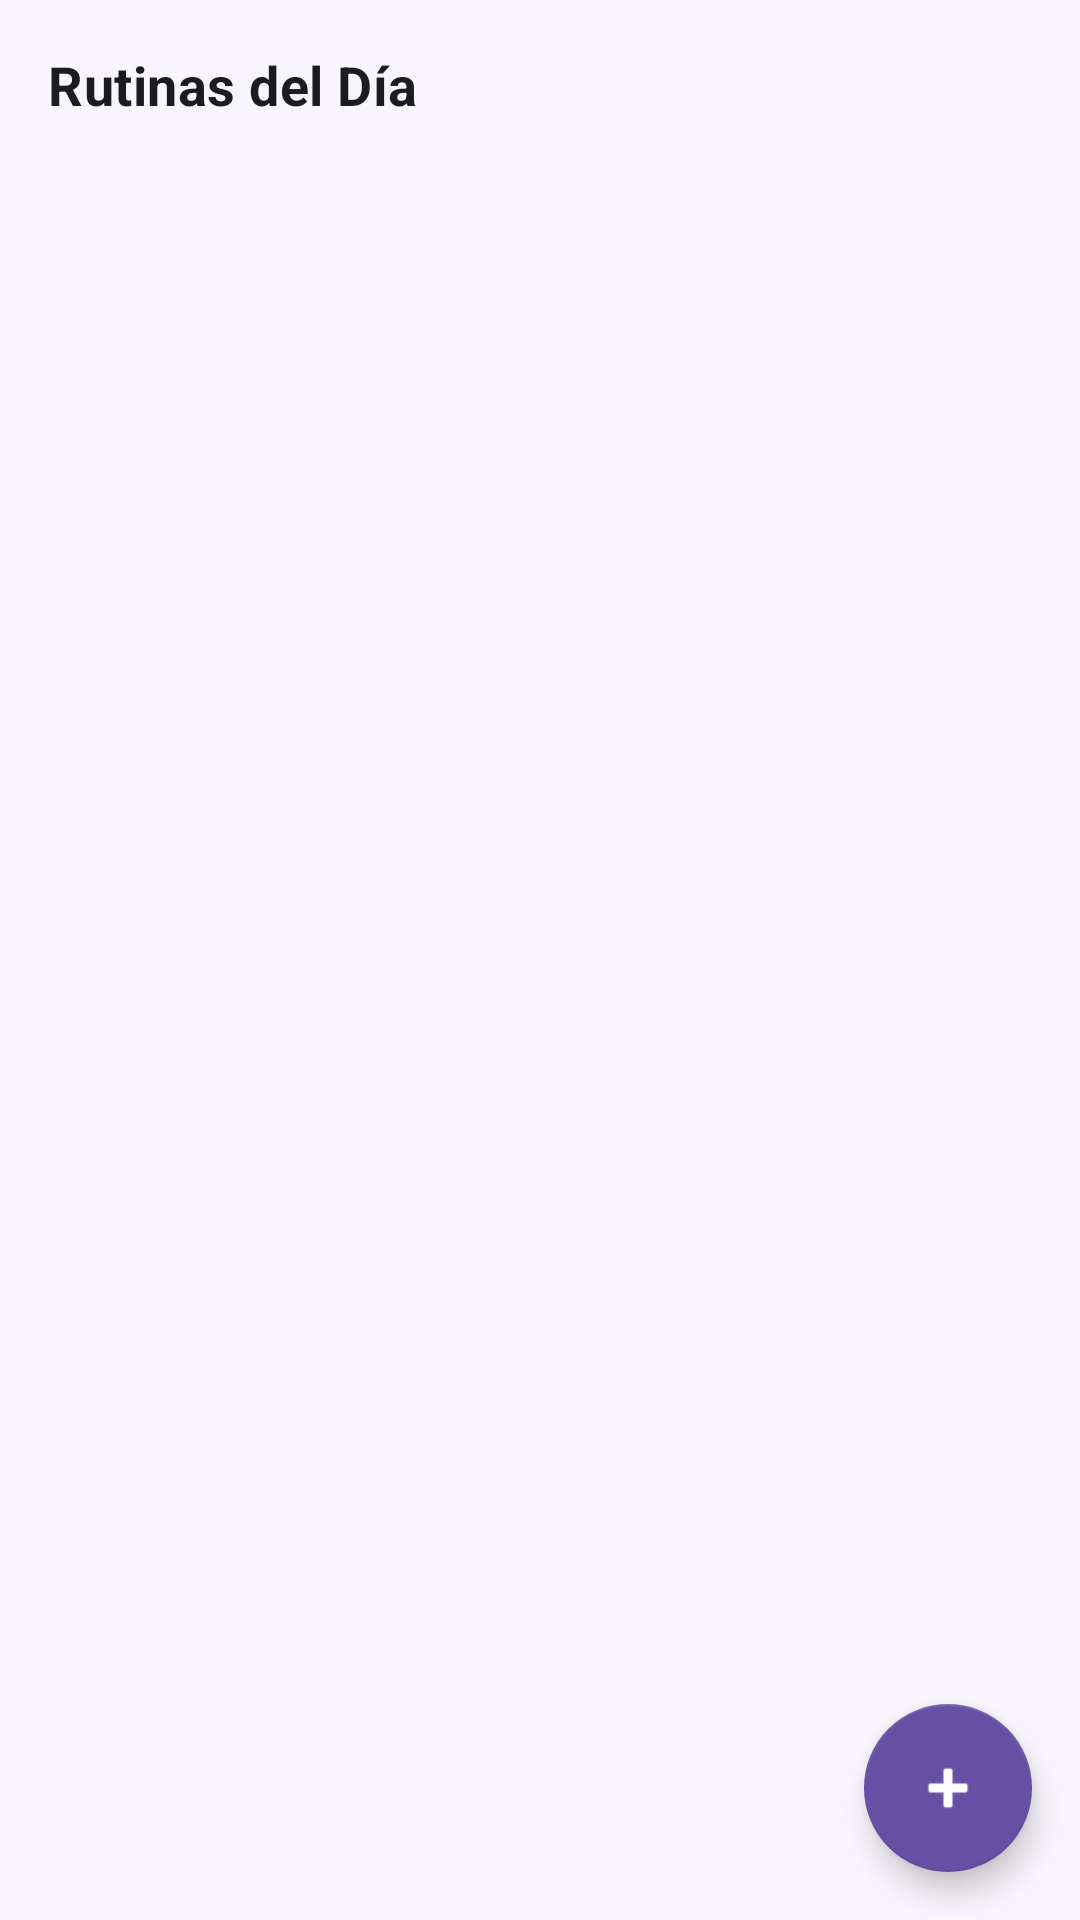

Icons on this 1080px x 1920px Android screen, each with the point to tap as (x,y):
Agregar Rutina: (948,1788)
